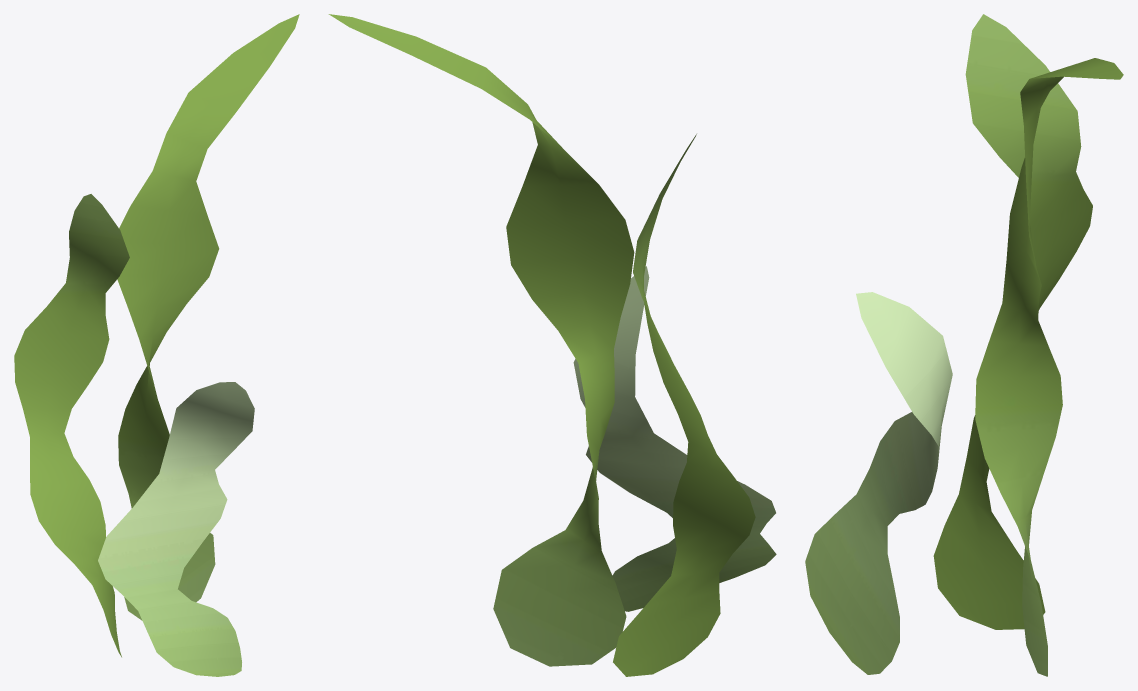
Rendered from Seaweed.glb.
3 views of the same model, side by side, from view 1: azimuth 30°, elevation 25°; view 2: azimuth 150°, elevation 25°; view 3: azimuth 270°, elevation 25° (orthographic). The views are drawn at different scales.
Visible parts, largest first — view 1: Lowpoly_seaweed__shell_and_starfish_Seaweed; view 2: Lowpoly_seaweed__shell_and_starfish_Seaweed; view 3: Lowpoly_seaweed__shell_and_starfish_Seaweed.
Boxes of the visible parts, bbox=[...] form: Lowpoly_seaweed__shell_and_starfish_Seaweed: bbox=[14, 14, 299, 676]; Lowpoly_seaweed__shell_and_starfish_Seaweed: bbox=[328, 14, 776, 676]; Lowpoly_seaweed__shell_and_starfish_Seaweed: bbox=[805, 14, 1123, 676].
Size of the model in its own units: 0.3197 by 0.5295 by 0.2207.
Materials: 1 (1 with a texture image).
